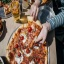pizza: (4, 26, 50, 63)
